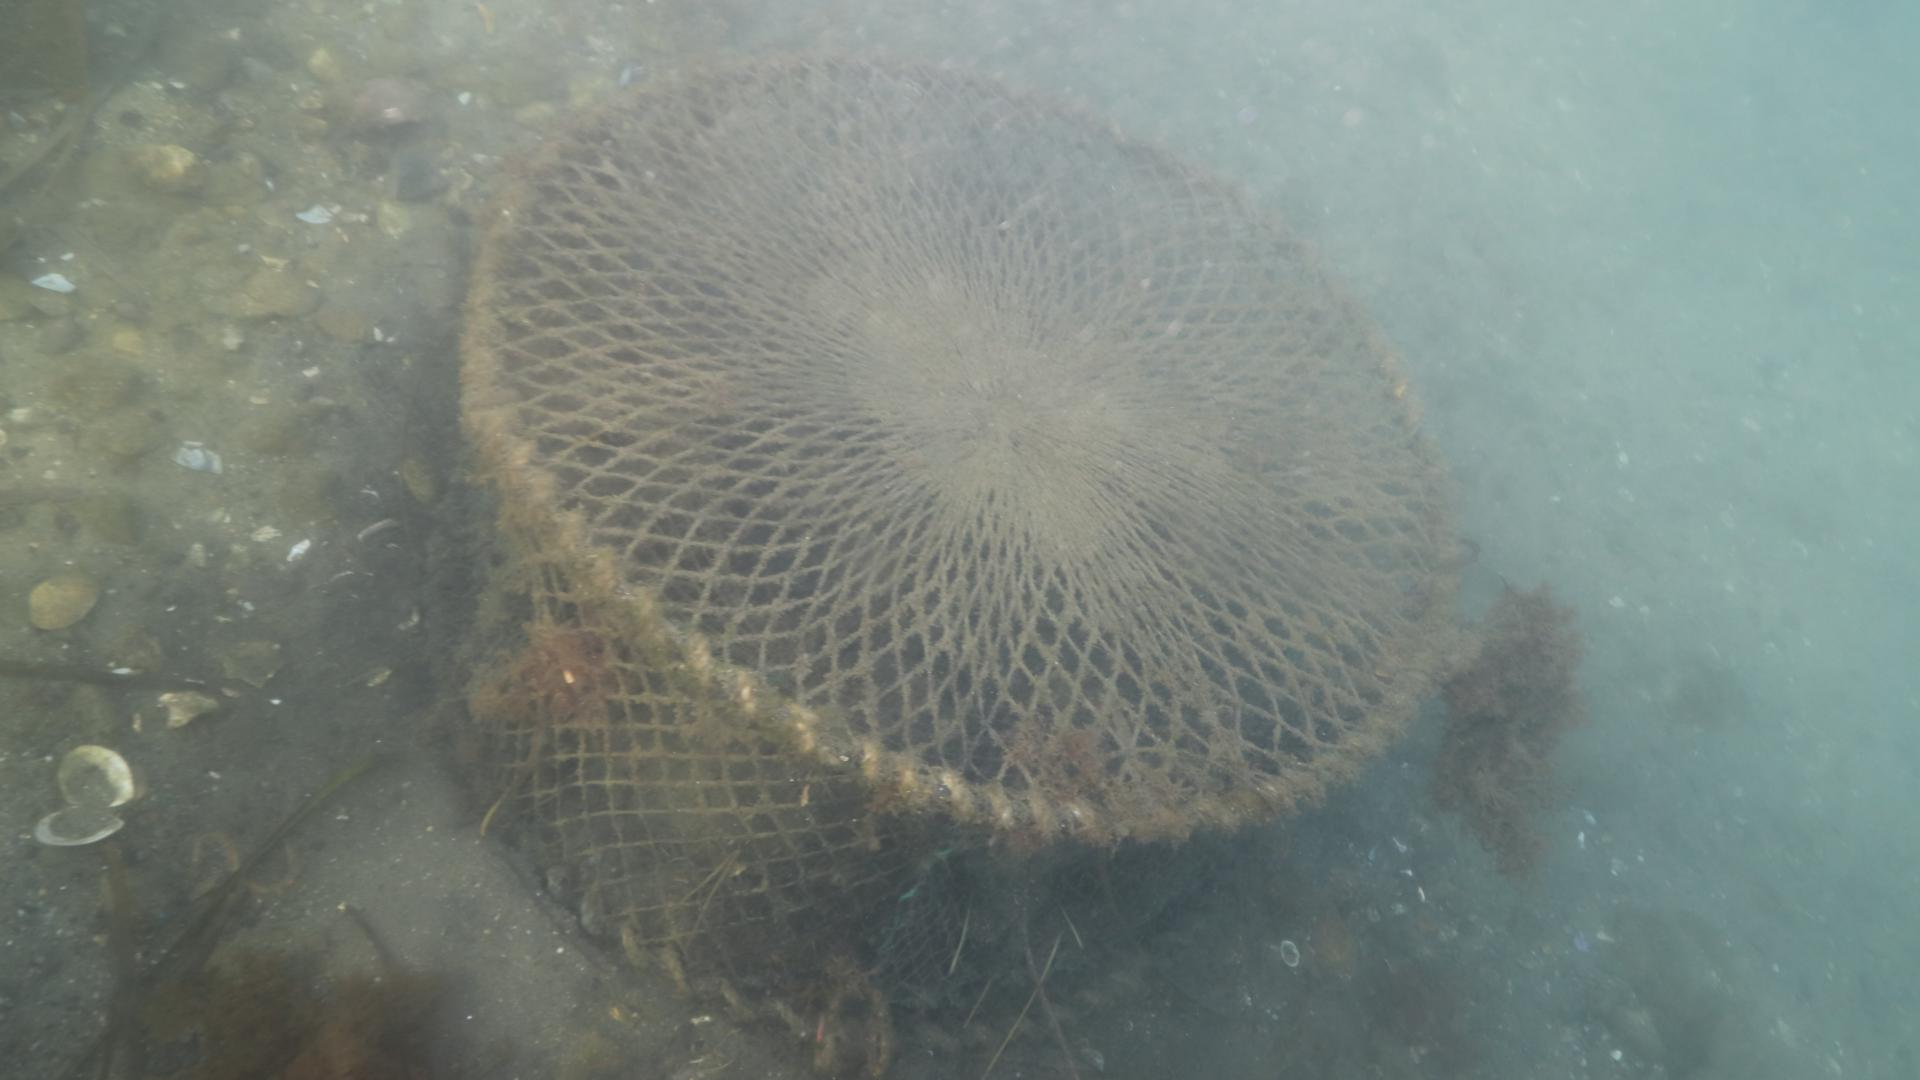circular fish trap: (422, 49, 1465, 1055)
